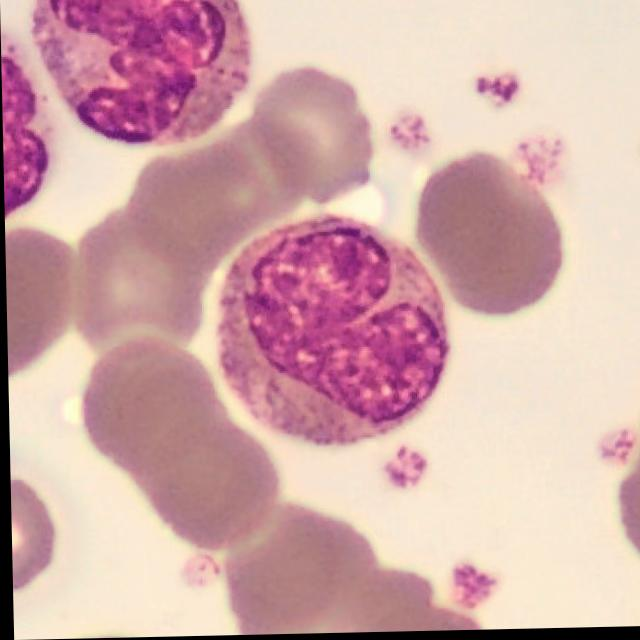Metamielocito: (207, 217, 450, 449)
Neutrofilo segmentado: (30, 0, 251, 148)
